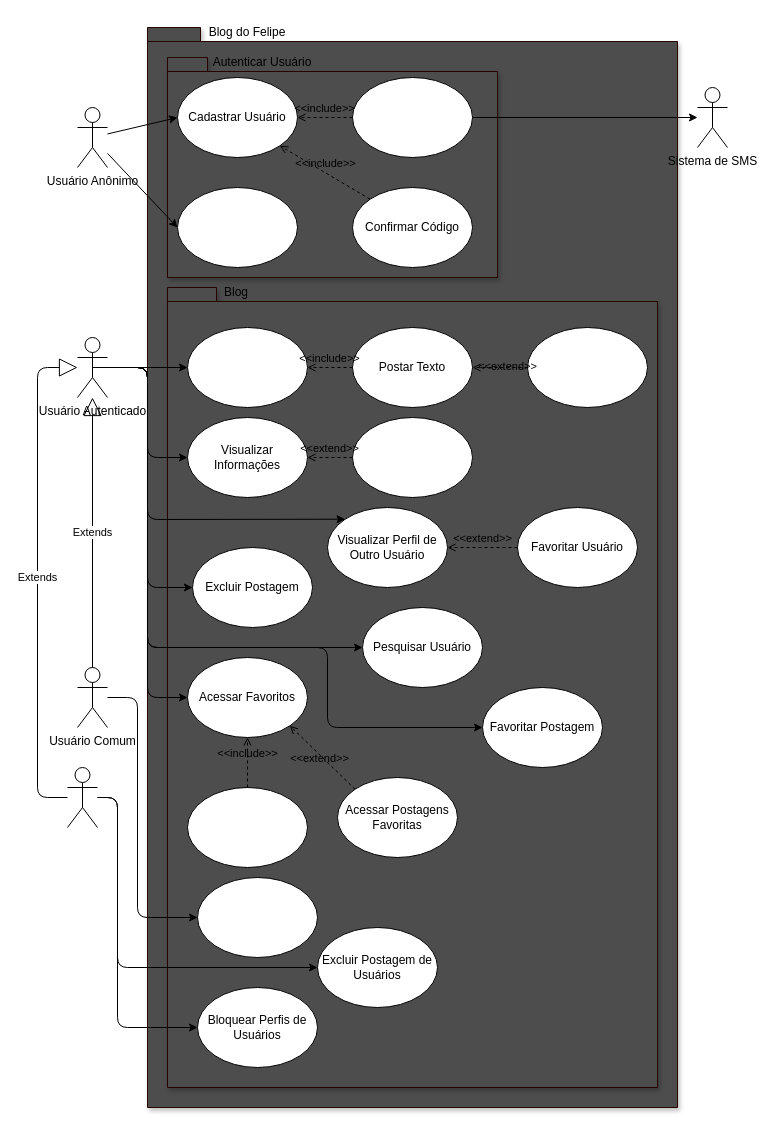
Image size: 774x1132. Some labels were removed from this diagram. The shapes that lost their labels are listed below. From the top down, each one's centre as x and y in pixels, then its label:
the point at 412,117: Enviar Código de Confirmação
the point at 237,227: Logar Usuário
the point at 247,367: Postar no Painel
the point at 587,367: Postar Foto
the point at 412,457: Editar Informações
the point at 82,797: Administrador
the point at 247,827: Acessar Perfis Favoritos
the point at 257,917: Excluir Conta
